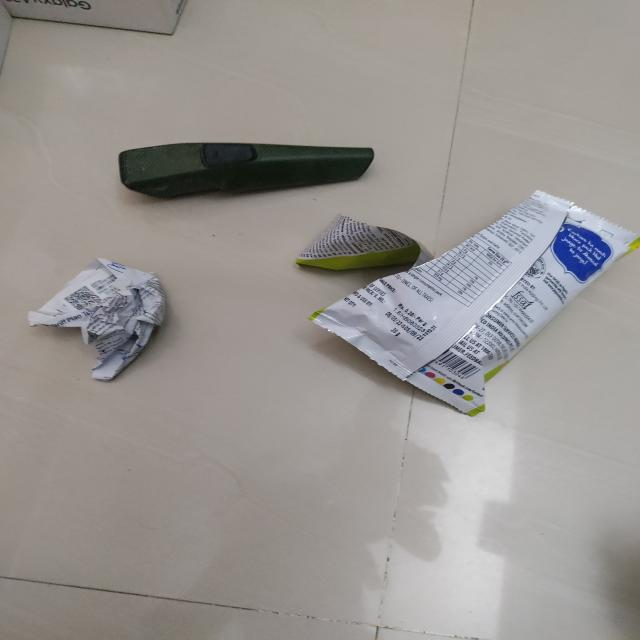paper: (0, 240, 272, 371)
plastic: (307, 198, 640, 414), (80, 101, 403, 207)
